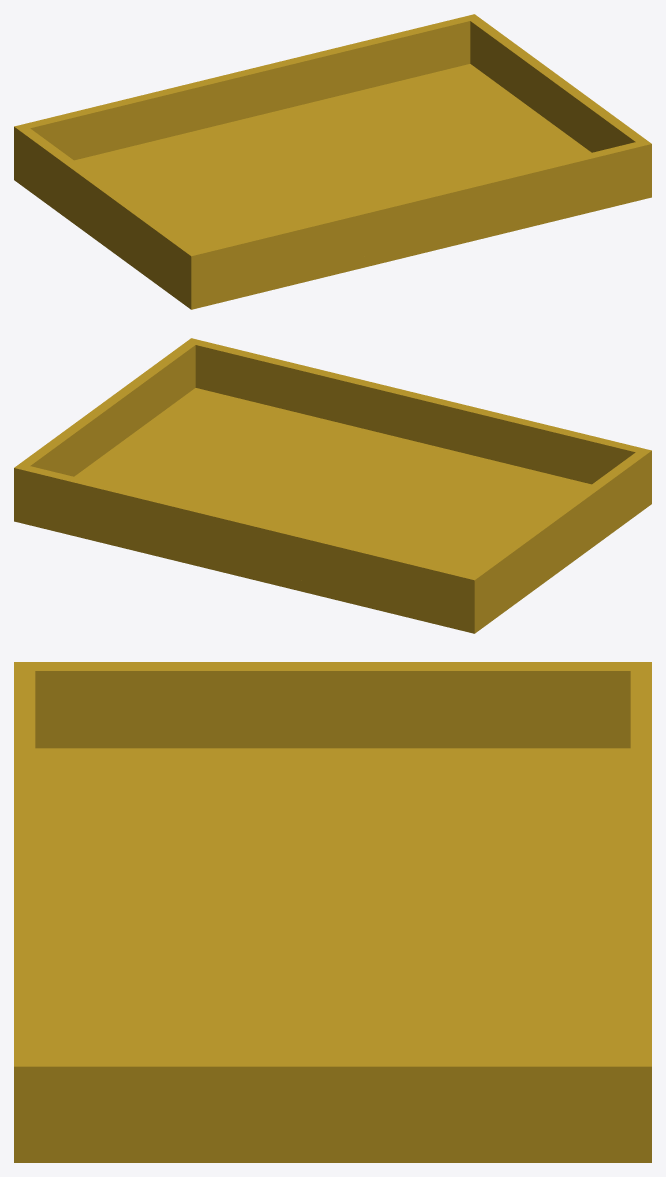
Rendered from FET-TRY-std.glb.
3 renders of one model, top to bottom at view 1: azimuth 30°, elevation 25°; view 2: azimuth 150°, elevation 25°; view 3: azimuth 270°, elevation 25°, orthographic. The views are drawn at different scales.
Visible parts, largest first — view 1: FET-TRY-std; view 2: FET-TRY-std; view 3: FET-TRY-std.
Boxes of the visible parts, x1=… form: FET-TRY-std: x1=14, y1=14, x2=651, y2=309; FET-TRY-std: x1=14, y1=338, x2=651, y2=633; FET-TRY-std: x1=14, y1=662, x2=651, y2=1162.
Size of the model in its own units: 0.45 by 0.05 by 0.3.
